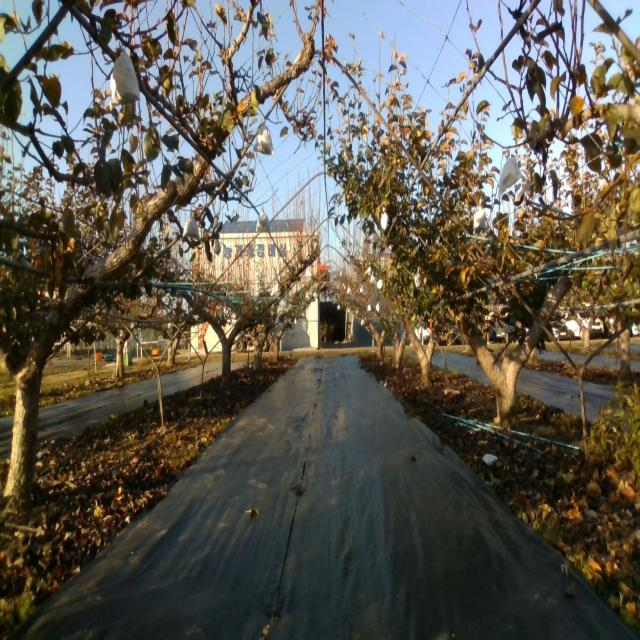pearbags: (109, 50, 140, 109), (499, 157, 522, 194), (254, 124, 274, 156), (182, 215, 200, 240), (472, 207, 486, 235), (256, 208, 270, 234)
